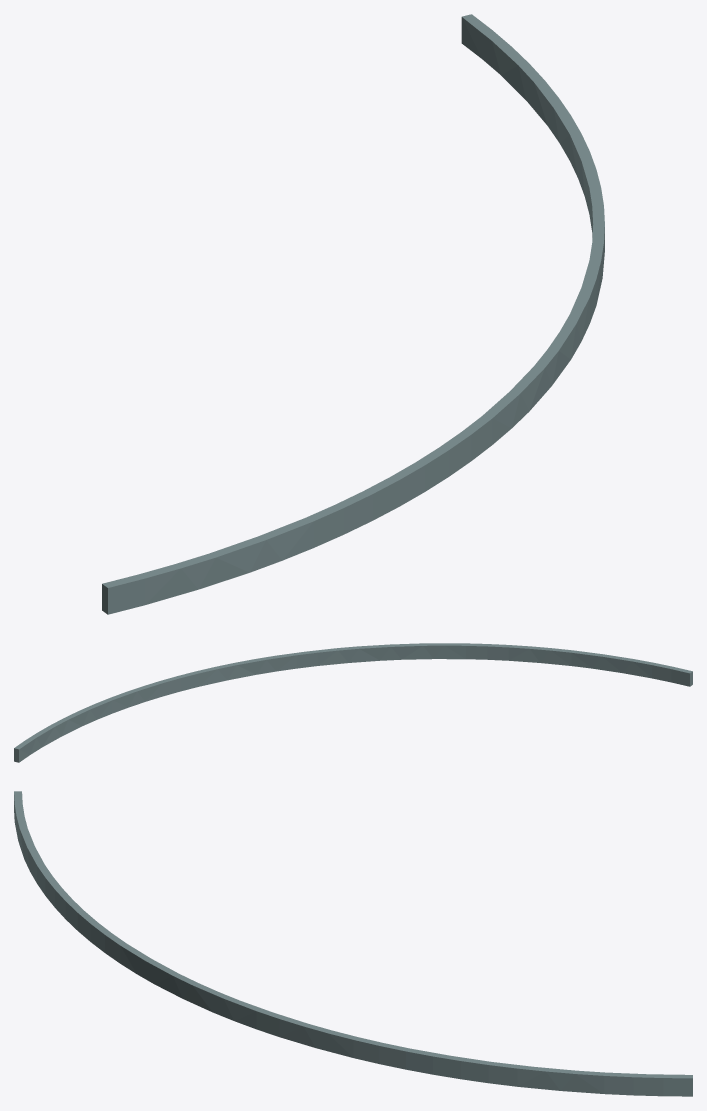
File: RoadPlan_WalkCurve_2L_A90_R7_Curb_-1.glb
The picture shows the model from 3 angles, top to bottom: view 1: azimuth 30°, elevation 25°; view 2: azimuth 150°, elevation 25°; view 3: azimuth 270°, elevation 25°; orthographic projection. The views are drawn at different scales.
Parts seen in each view (by area): view 1: RoadPlan_WalkCurve_2L_A90_R7_Curb_-1; view 2: RoadPlan_WalkCurve_2L_A90_R7_Curb_-1; view 3: RoadPlan_WalkCurve_2L_A90_R7_Curb_-1.
Boxes of the visible parts, <box> form: RoadPlan_WalkCurve_2L_A90_R7_Curb_-1: <box>102,14,604,614</box>; RoadPlan_WalkCurve_2L_A90_R7_Curb_-1: <box>14,643,692,762</box>; RoadPlan_WalkCurve_2L_A90_R7_Curb_-1: <box>14,791,692,1096</box>.
Bounding box in the file's own units: 10.12 × 0.3 × 10.12.
